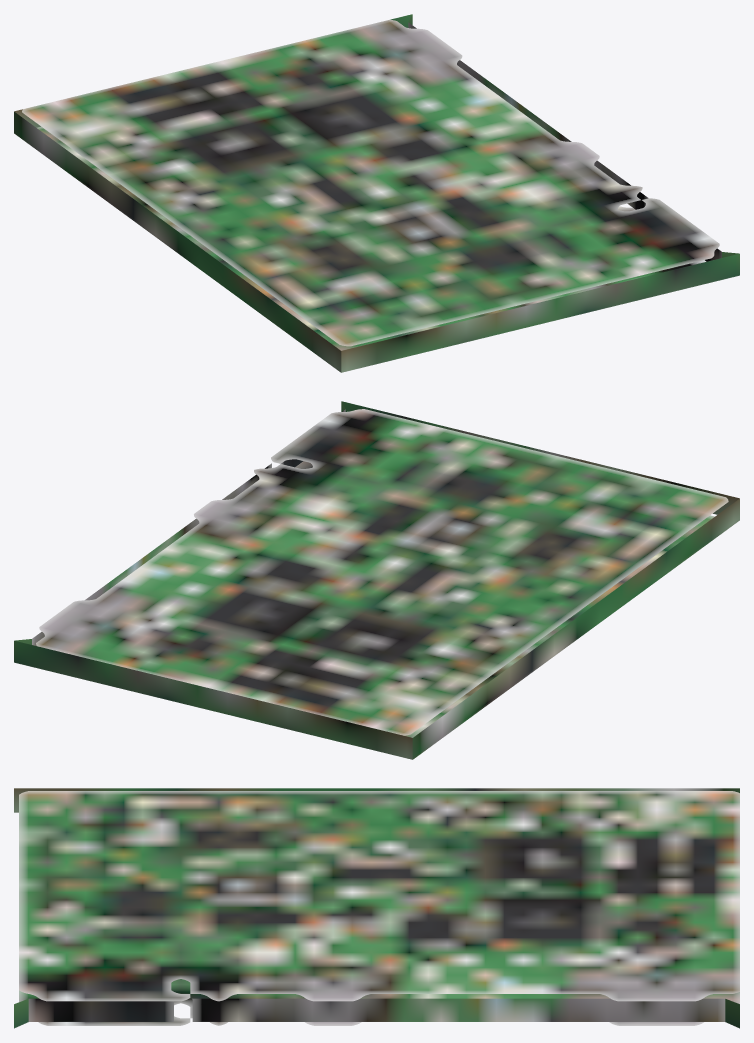
The model's file is ITEM_PCB.fbx.
3 renders of one model, top to bottom at view 1: azimuth 30°, elevation 25°; view 2: azimuth 150°, elevation 25°; view 3: azimuth 270°, elevation 25°, orthographic. The views are drawn at different scales.
Parts seen in each view (by area): view 1: Cube.002; view 2: Cube.002; view 3: Cube.002.
Part boxes in pixels (x1,y1,x2,y2): Cube.002: [14, 14, 739, 372]; Cube.002: [14, 401, 739, 759]; Cube.002: [14, 788, 739, 1028].
Bounding box in the file's own units: 0.19 × 0.01 × 0.27.
